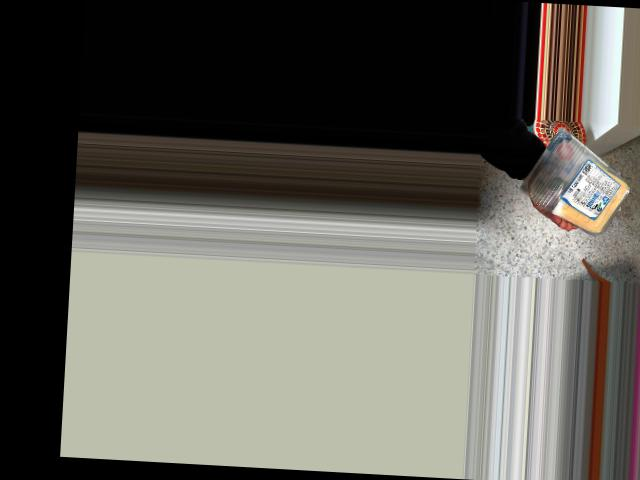cheese: (533, 135, 637, 223)
